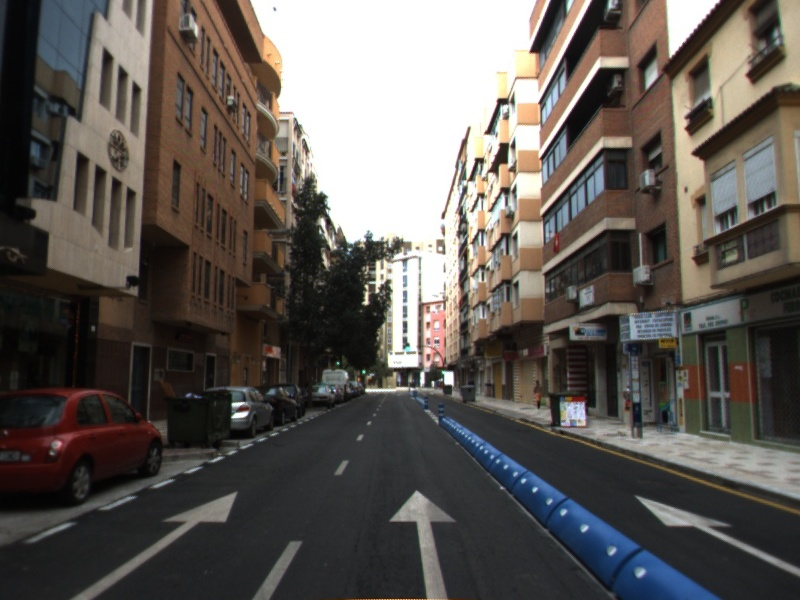STRAIGHT: (68, 489, 239, 600), (632, 493, 800, 579), (387, 488, 459, 600)
